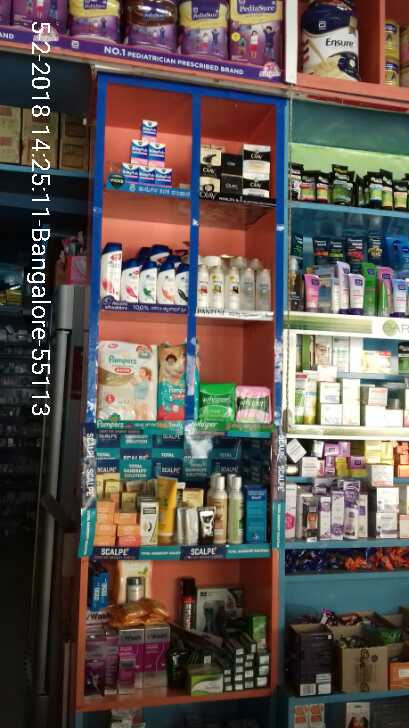beauty: (190, 265, 274, 313), (239, 143, 277, 178), (102, 239, 121, 301), (121, 265, 140, 298), (196, 169, 221, 193), (140, 269, 158, 301)
pharmacy: (93, 340, 158, 421), (159, 344, 186, 423), (193, 382, 236, 423), (237, 383, 275, 423), (131, 135, 169, 173)
